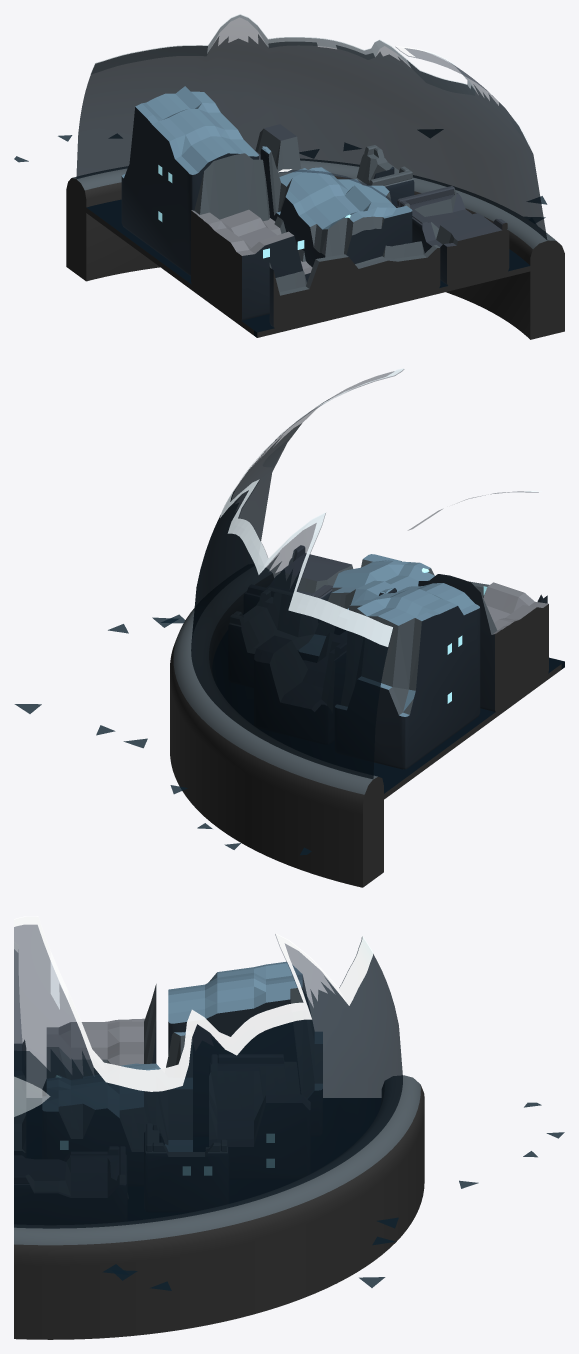
The model's file is glass_city_tr_wreck.glb.
3 views of the same model, one above another, from view 1: azimuth 30°, elevation 25°; view 2: azimuth 150°, elevation 25°; view 3: azimuth 270°, elevation 25° (orthographic). The views are drawn at different scales.
Visible parts, largest first — view 1: glassshell.001, collar.001, b0.001, b3.001, b4.001, b7.001, b10.001, floor.001, glassshell_d_edge.001, b5.001, b6.001, b10_rim_n.001; view 2: glassshell.001, collar.001, b0.001, b5.001, b3.001, floor.001, glassshell_d_edge.001, b4.001, b6.001, b10.001; view 3: glassshell.001, collar.001, b0.001, b4.001, b5.001, b10.001, glassshell_d_edge.001, floor.001, b3.001, b6.001, glassshell_b_crescent.001, b7.001 (+2 smaller).
Boxes of the visible parts, x1,y1,x2,y2 form: glassshell.001: [76, 15, 547, 240]; collar.001: [66, 159, 564, 339]; b0.001: [121, 86, 258, 275]; b3.001: [191, 153, 312, 320]; b4.001: [260, 148, 412, 267]; b7.001: [269, 241, 440, 328]; b10.001: [396, 192, 509, 286]; floor.001: [85, 199, 530, 337]; glassshell_d_edge.001: [90, 14, 475, 95]; b5.001: [254, 124, 300, 176]; b6.001: [349, 154, 414, 207]; b10_rim_n.001: [397, 186, 456, 207]; glassshell.001: [191, 369, 403, 779]; collar.001: [170, 566, 383, 887]; b0.001: [335, 583, 480, 769]; b5.001: [254, 631, 347, 744]; b3.001: [418, 574, 548, 711]; floor.001: [212, 614, 564, 799]; glassshell_d_edge.001: [220, 368, 403, 646]; b4.001: [298, 554, 434, 662]; b6.001: [228, 597, 318, 687]; b10.001: [244, 553, 353, 622]; glassshell.001: [14, 924, 402, 1228]; collar.001: [14, 1075, 424, 1339]; b0.001: [168, 961, 322, 1136]; b4.001: [42, 1032, 192, 1185]; b5.001: [209, 1062, 310, 1179]; b10.001: [14, 1154, 127, 1224]; glassshell_d_edge.001: [14, 916, 373, 1091]; floor.001: [26, 1098, 381, 1220]; b3.001: [46, 984, 156, 1079]; b6.001: [144, 1130, 228, 1211]; glassshell_b_crescent.001: [14, 1076, 50, 1116]; b7.001: [14, 1040, 26, 1157].
Size of the model in its own units: 21.92 by 18.44 by 27.11.
